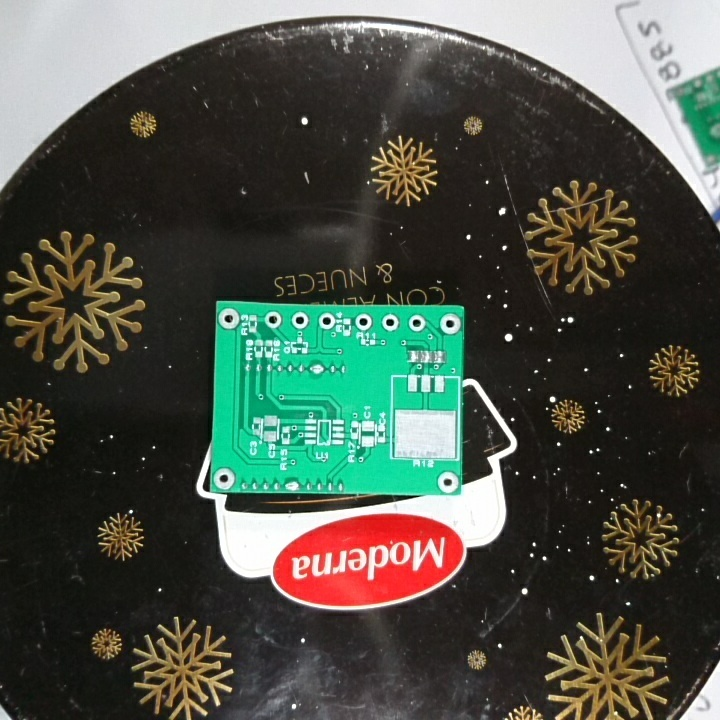F: (437, 311, 460, 337), (217, 305, 239, 332), (436, 469, 459, 493), (214, 467, 237, 490), (379, 312, 401, 335), (262, 309, 284, 331), (353, 312, 374, 332), (317, 311, 337, 332), (290, 311, 310, 332), (407, 312, 425, 335)
P: (308, 360, 328, 380), (283, 477, 302, 493)
